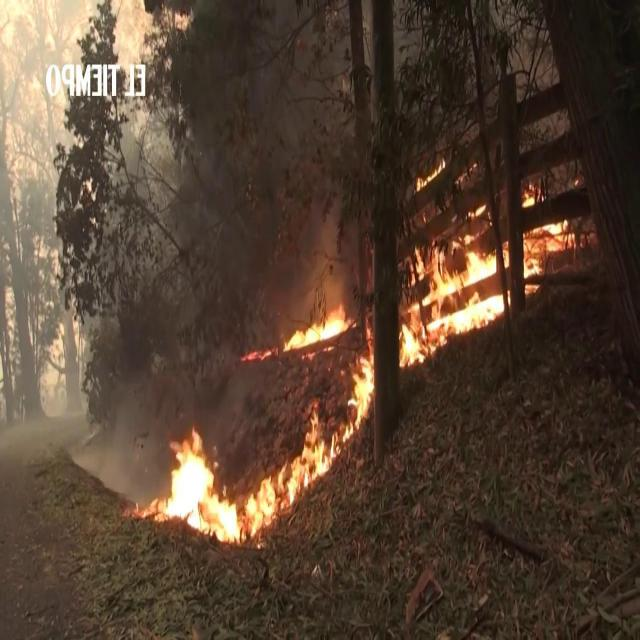Fire: (152, 399, 338, 545), (399, 224, 507, 363), (343, 319, 374, 439), (522, 220, 572, 294), (284, 305, 351, 353), (415, 154, 447, 193), (240, 343, 276, 365), (520, 180, 538, 208)
